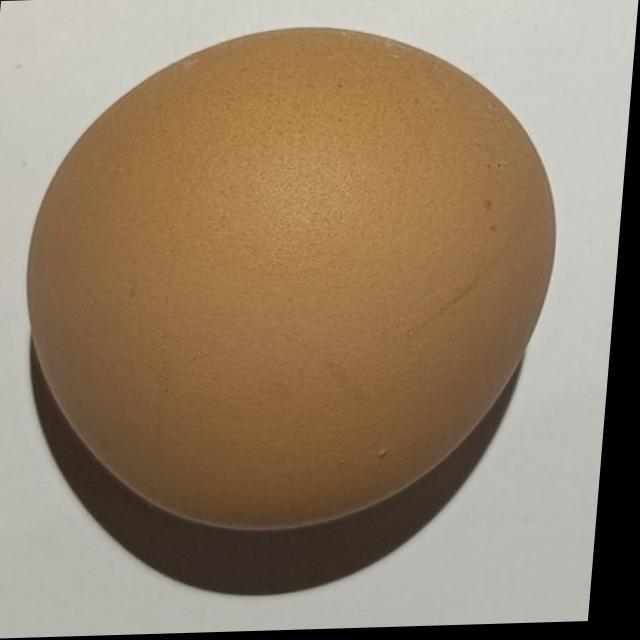fresh: (1, 9, 584, 552)
